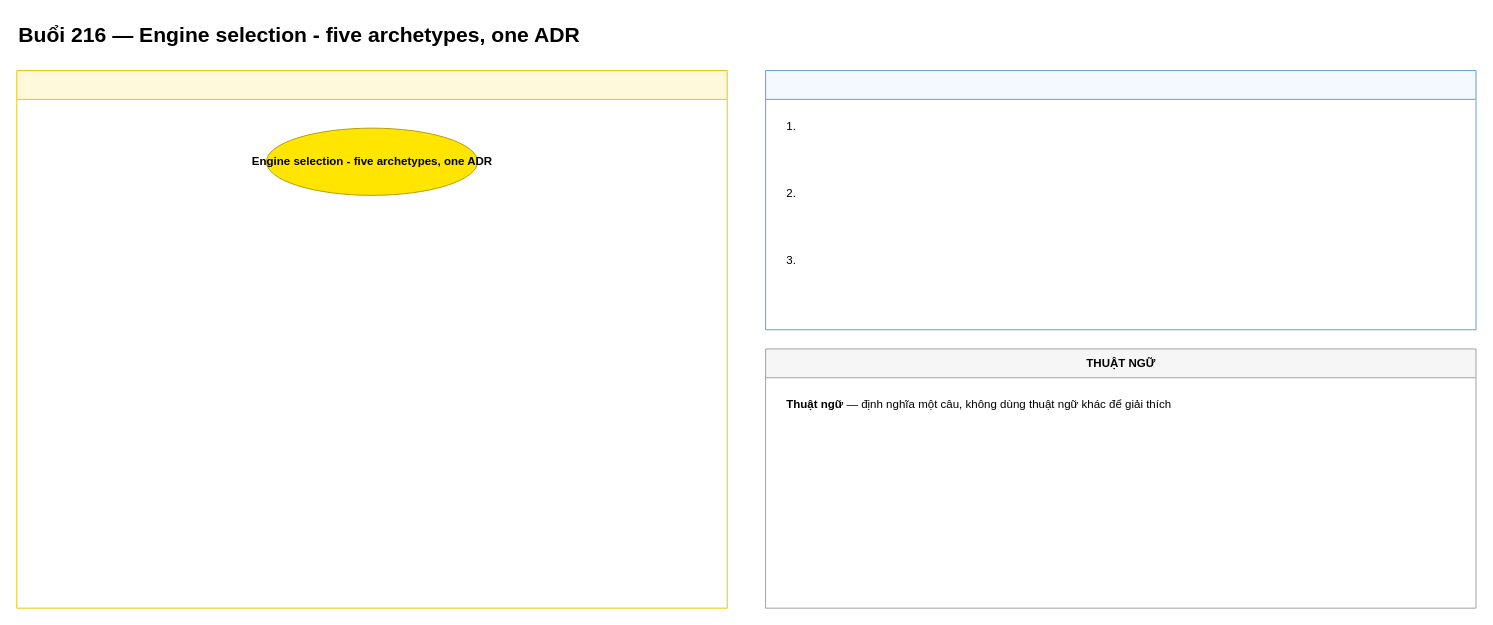
This 1493x625 diagram has some shape labels left out. The box of each missing label's shape, as (x1, y1, x2, y2) in pixels:
KEY TAKEAWAY — ba điều phải nhớ: (765, 70, 1476, 330)
MINDMAP: (16, 70, 727, 608)
